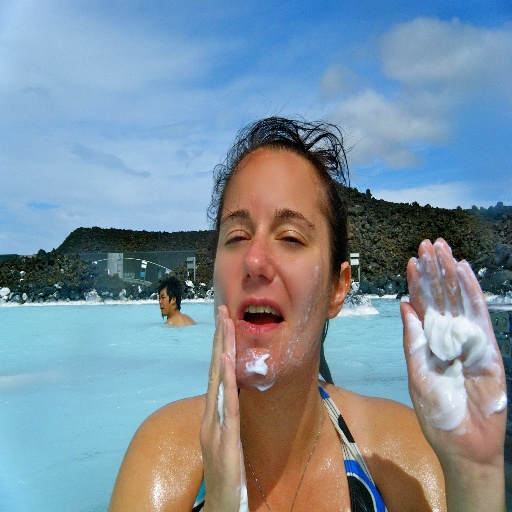hand: (391, 248, 497, 488), (198, 304, 250, 511)
